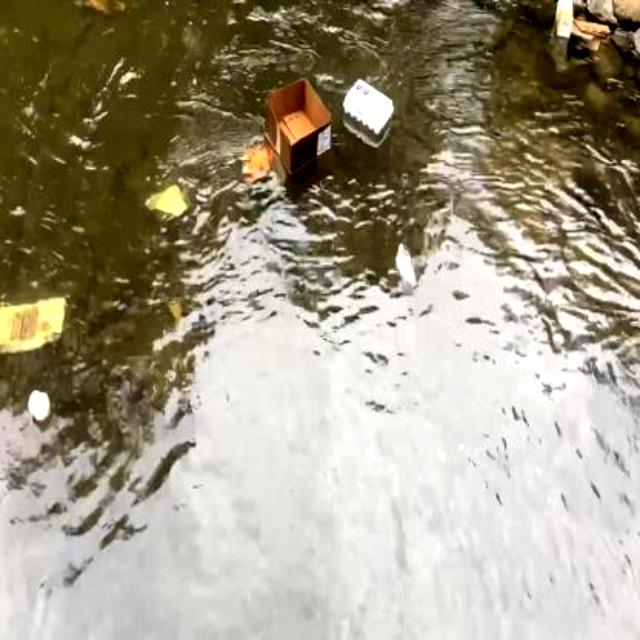Cardboard: (242, 73, 332, 185), (550, 0, 578, 44)
Metal: (141, 178, 191, 228)
Paper: (564, 9, 614, 61), (25, 384, 51, 428)
Plastic: (0, 283, 76, 363), (338, 74, 396, 144), (393, 238, 419, 292)
